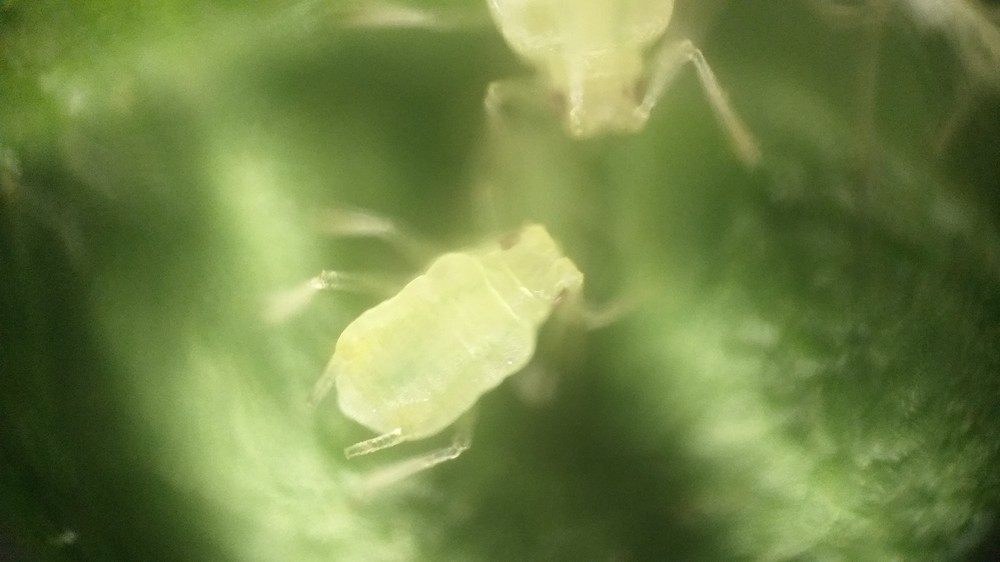Pulgon: (252, 177, 678, 492)
